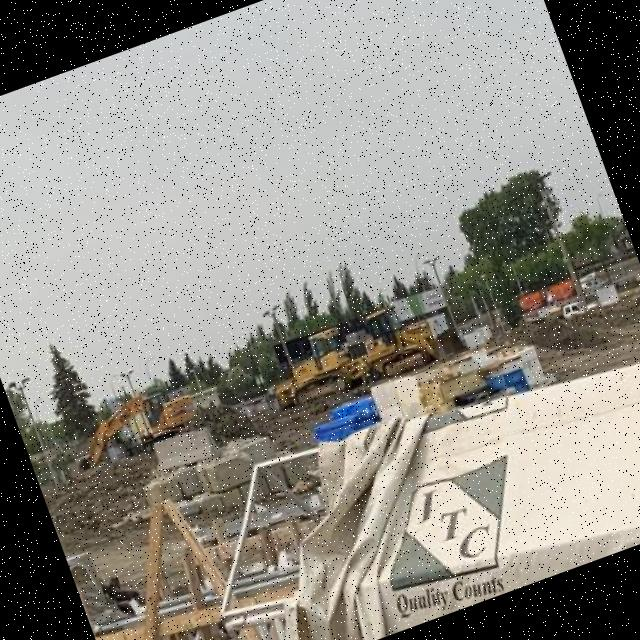Excavator: (65, 372, 207, 473)
